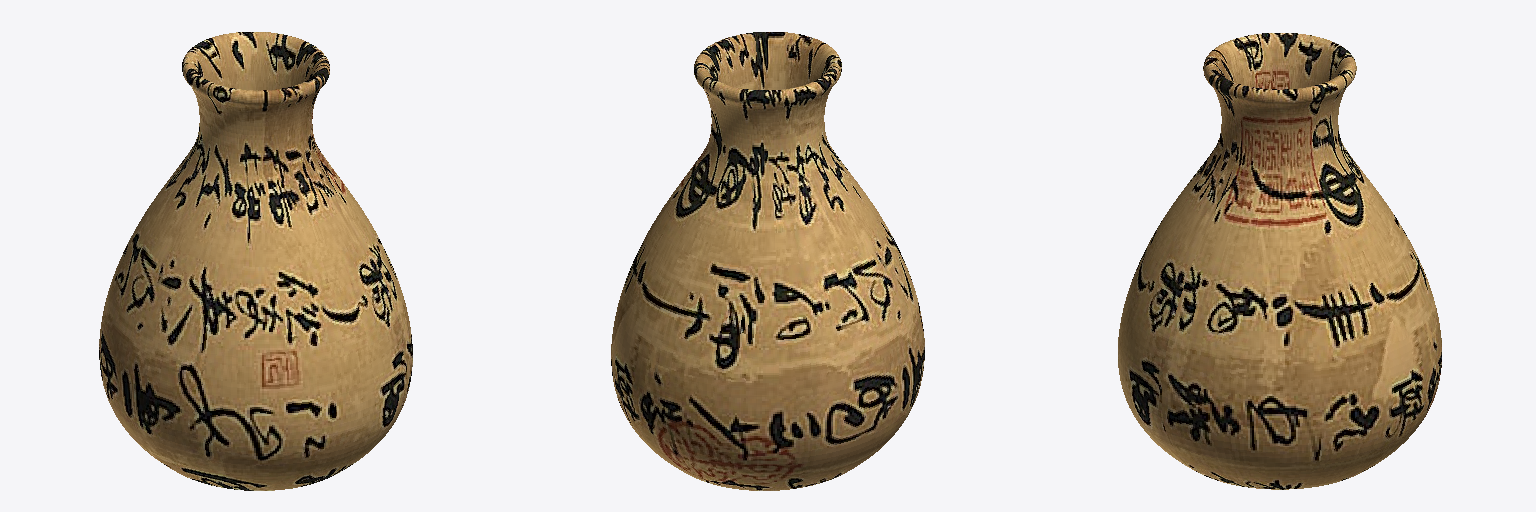
3 views of the same model, side by side, from view 1: azimuth 30°, elevation 25°; view 2: azimuth 150°, elevation 25°; view 3: azimuth 270°, elevation 25° (orthographic).
Parts seen in each view (by area): view 1: model_6; view 2: model_6; view 3: model_6.
Boxes of the visible parts, x1,y1,x2,y2 form: model_6: [99, 32, 412, 490]; model_6: [611, 32, 924, 490]; model_6: [1118, 33, 1441, 489].
Size of the model in its own units: 143 by 198 by 150.
1 materials, 1 textured.